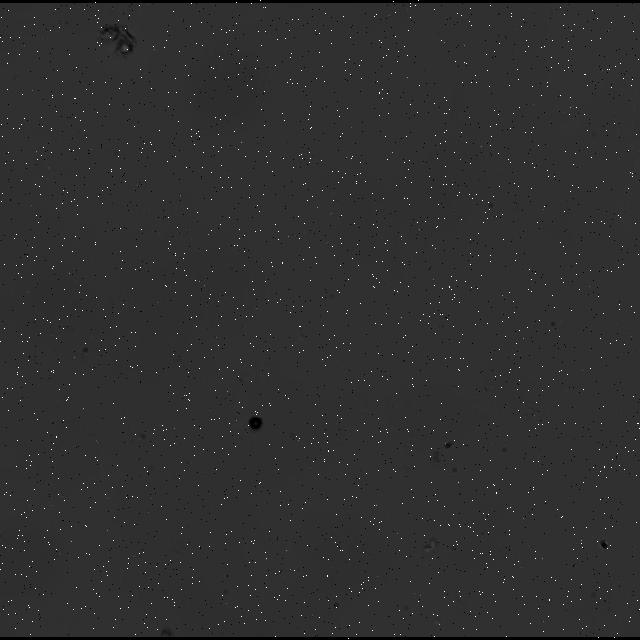microbeads: (248, 412, 264, 432)
